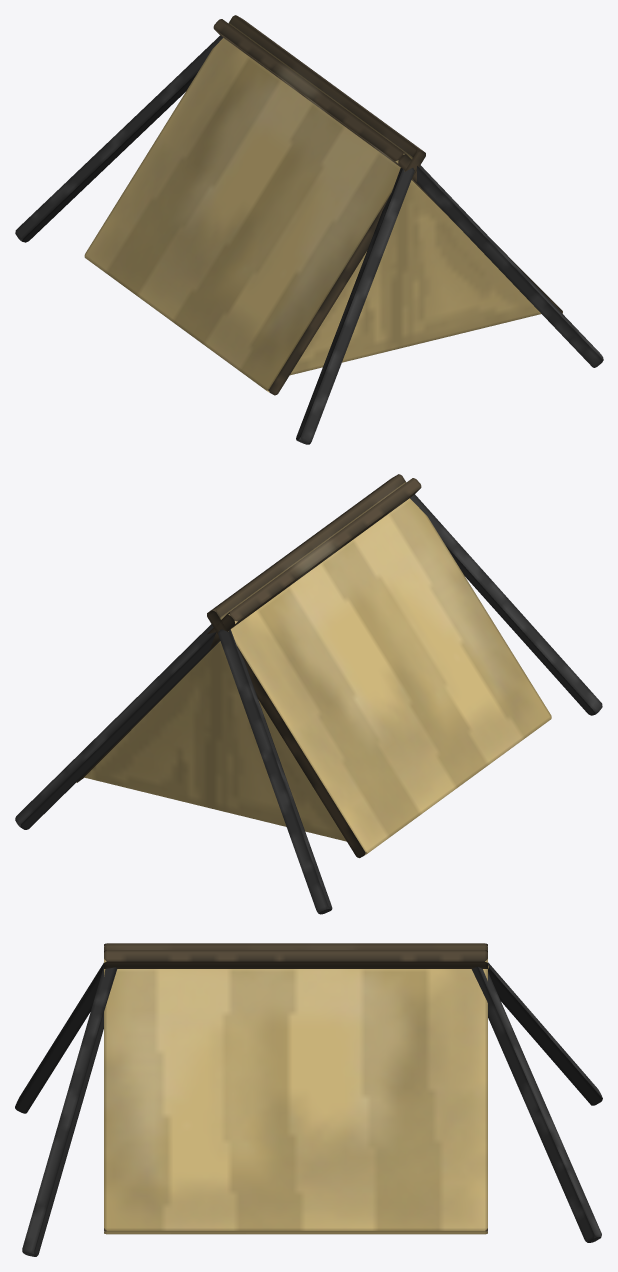
File: Tent.fbx
3 views of the same model, one above another, from view 1: azimuth 30°, elevation 25°; view 2: azimuth 150°, elevation 25°; view 3: azimuth 270°, elevation 25° (orthographic). The views are drawn at different scales.
Visible parts, largest first — view 1: cuboid, cuboid_2, cuboid_4, cuboid_7, cuboid_5, cuboid_1; view 2: cuboid, cuboid_3, cuboid_6, cuboid_7, cuboid_4, cuboid_1; view 3: cuboid_1, cuboid, cuboid_6, cuboid_5, cuboid_7, cuboid_4.
Boxes of the visible parts, x1,y1,x2,y2 form: cuboid: (84,15,425,395); cuboid_2: (290,180,540,375); cuboid_4: (296,168,414,444); cuboid_7: (15,35,222,242); cuboid_5: (412,165,603,367); cuboid_1: (213,19,562,313); cuboid: (207,474,551,858); cuboid_3: (84,641,346,841); cuboid_6: (15,624,220,829); cuboid_7: (218,629,332,914); cuboid_4: (410,494,602,715); cuboid_1: (76,478,421,782); cuboid_1: (104,943,487,1234); cuboid: (104,950,487,968); cuboid_6: (471,966,601,1242); cuboid_5: (22,961,117,1256); cuboid_7: (488,962,602,1105); cuboid_4: (15,963,103,1113).
Size of the model in its own units: 360 by 251 by 557.
Materials: 1 (1 with a texture image).
